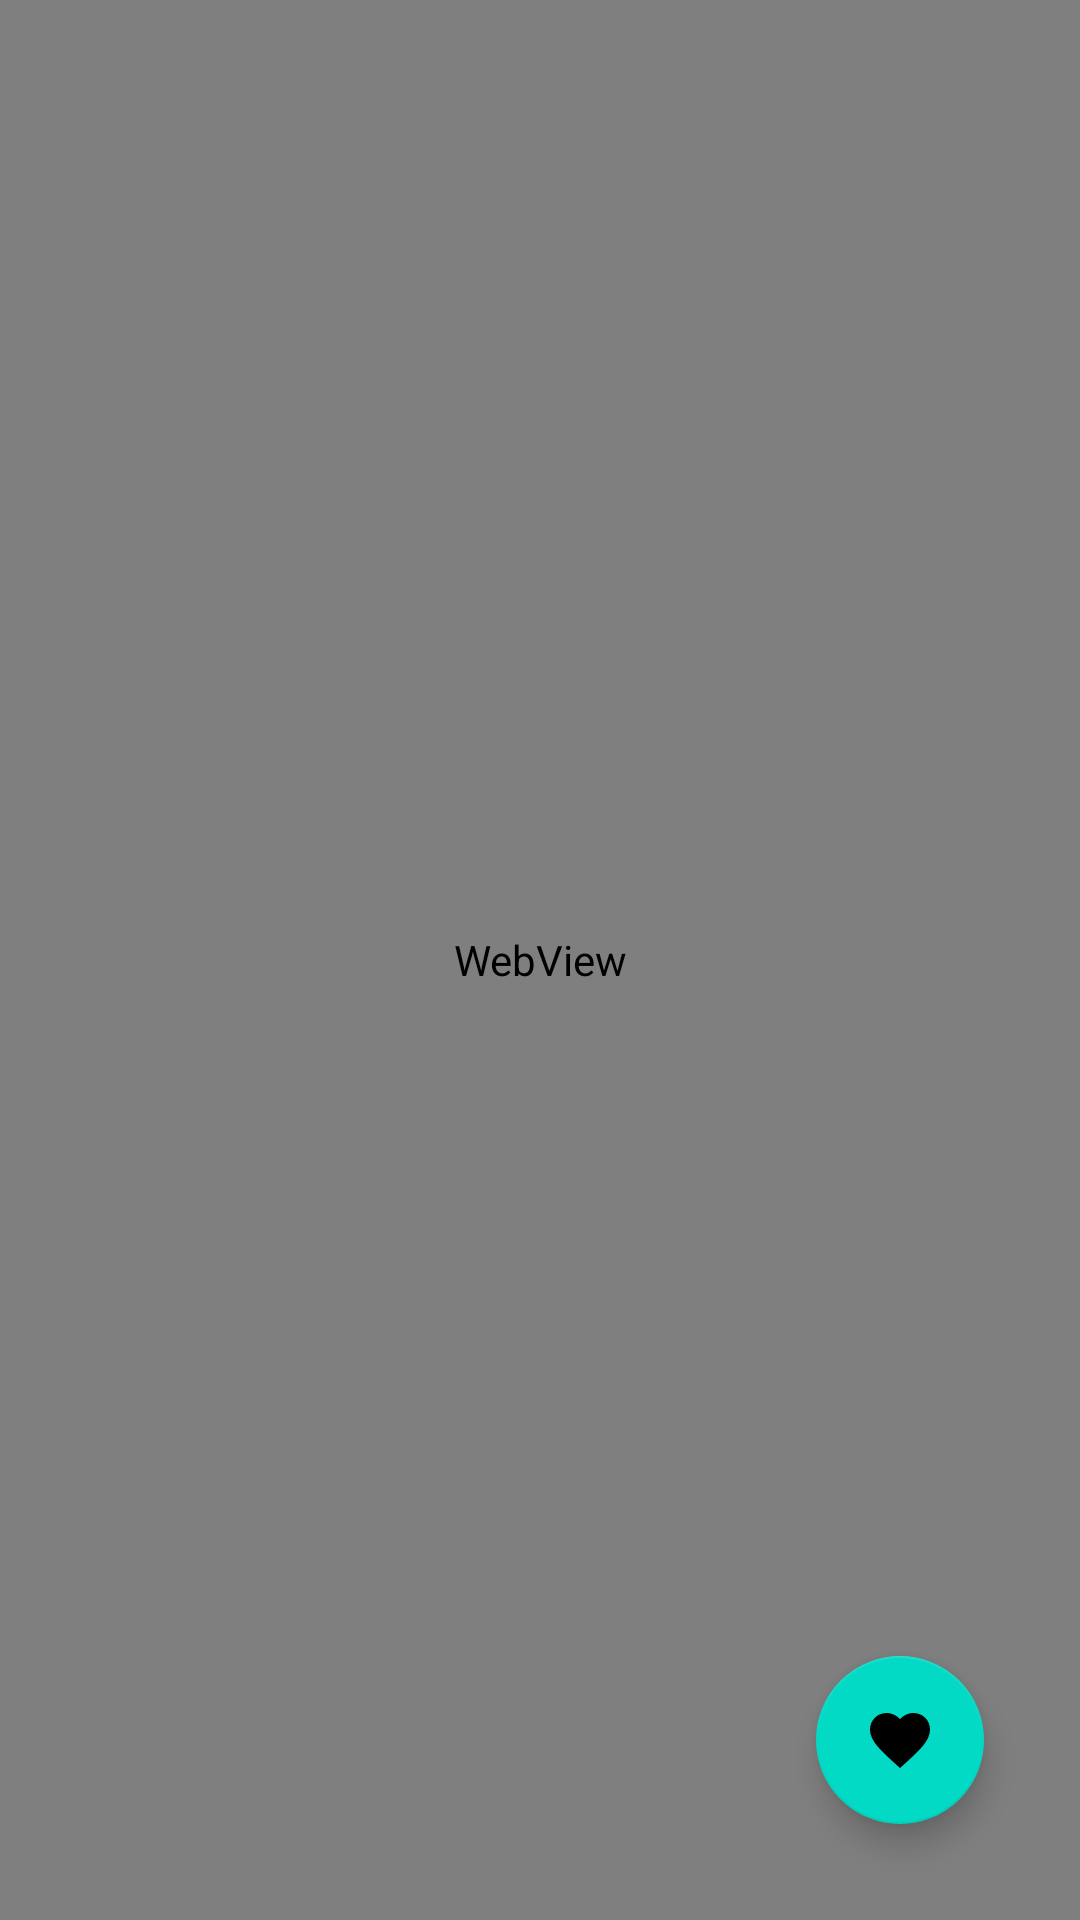

Named icons in this screenshot (1080px×1920px) and their centers, (x,y):
favorite: (900,1740)
